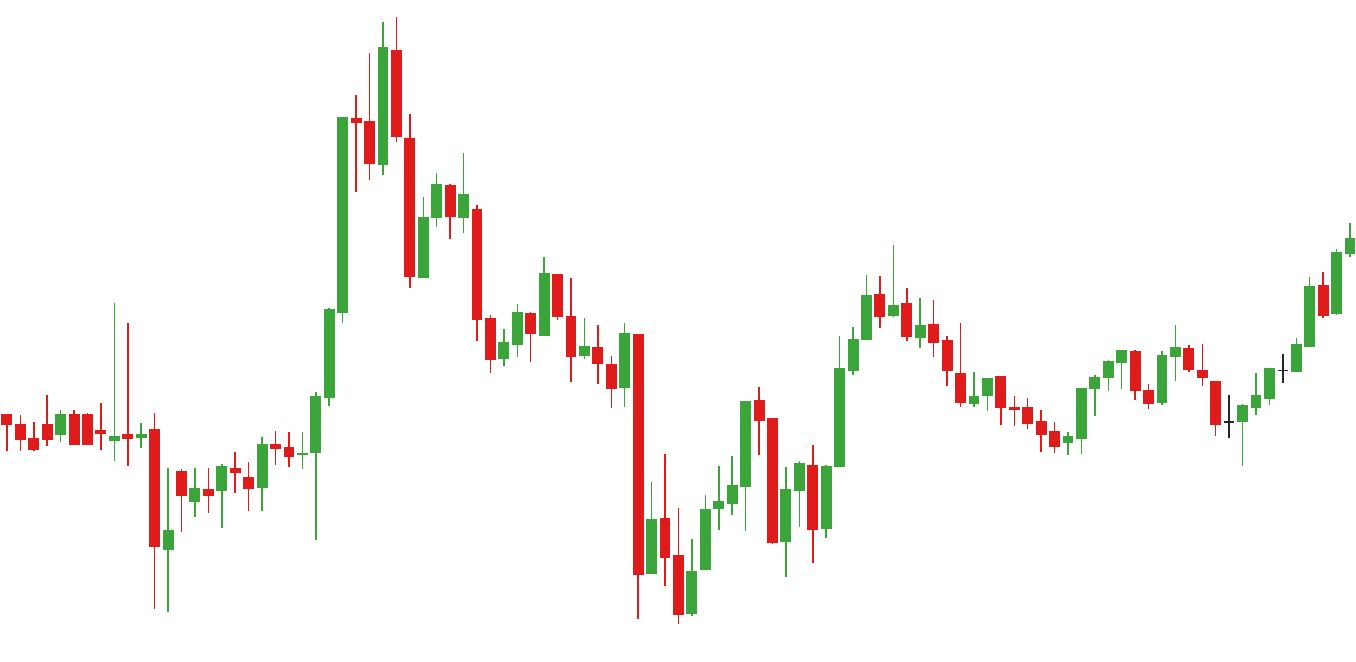buy: (1051, 372, 1248, 472)
